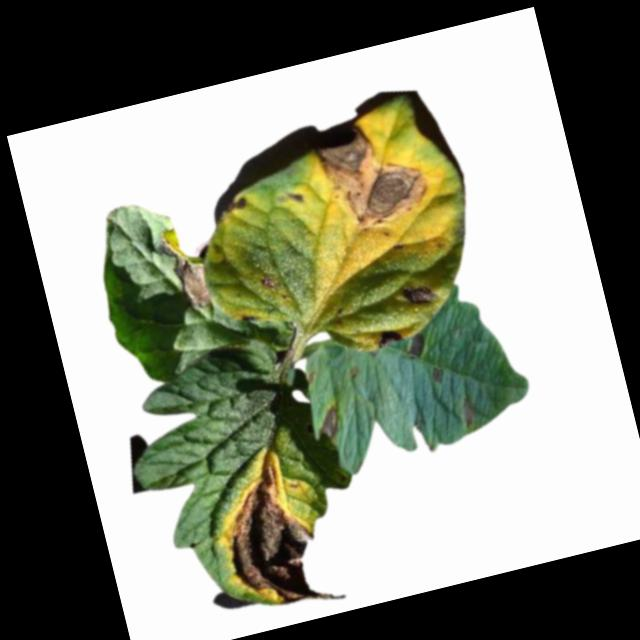Early_blight: (198, 442, 347, 630), (307, 104, 448, 244), (154, 220, 217, 316), (398, 280, 442, 310), (315, 404, 346, 442), (218, 194, 254, 225), (372, 324, 407, 351), (455, 393, 480, 430), (406, 332, 432, 363), (256, 271, 280, 292), (429, 364, 449, 387), (287, 189, 308, 210)
